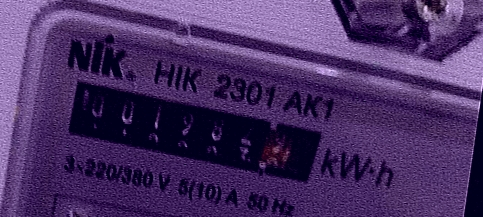0: (116, 97, 137, 128), (87, 89, 107, 120)
1: (148, 101, 164, 132)
2: (236, 117, 258, 148)
8: (207, 114, 226, 144)
9: (266, 127, 290, 158), (176, 108, 195, 139)
screen: (46, 65, 338, 200)
